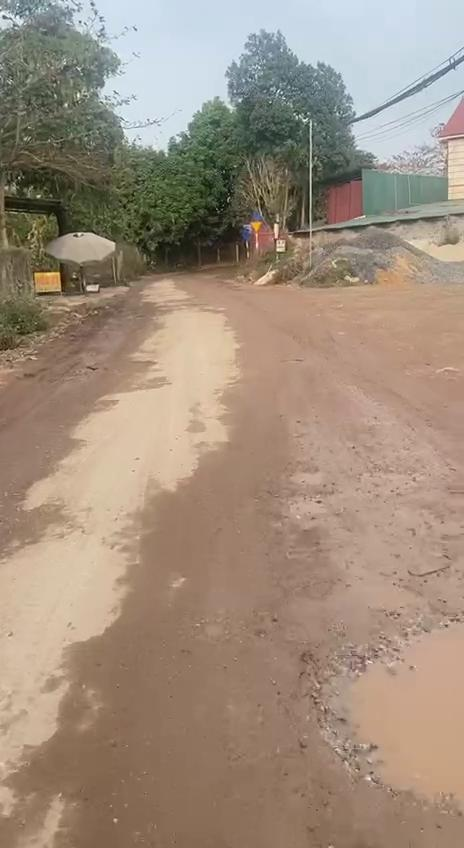pothole: (309, 610, 464, 820)
